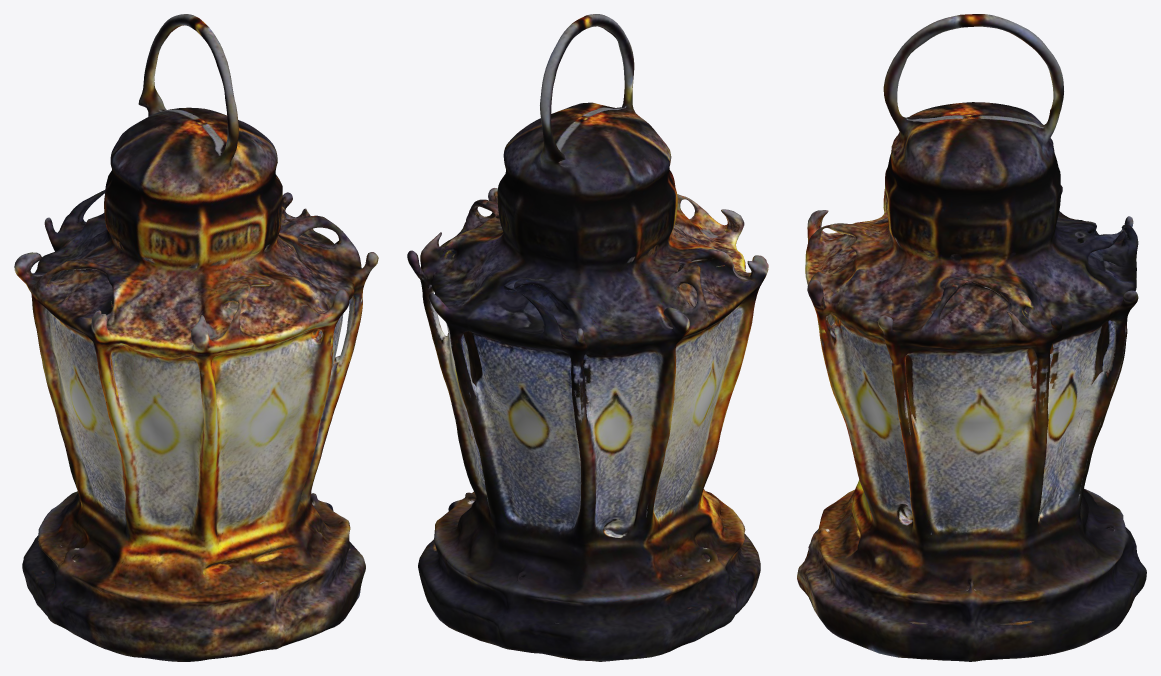
Rendered from 6af3f9a8-917c-4f39-87c8-5c8eab4eb48e.glb.
The picture shows the model from 3 angles, left to right: view 1: azimuth 30°, elevation 25°; view 2: azimuth 150°, elevation 25°; view 3: azimuth 270°, elevation 25°; orthographic projection. The views are drawn at different scales.
Parts seen in each view (by area): view 1: mesh; view 2: mesh; view 3: mesh.
Part boxes in pixels (x1,y1,x2,y2): mesh: (14,14,378,661); mesh: (407,14,768,661); mesh: (797,14,1146,661).
Bounding box in the file's own units: 0.5409 × 0.9984 × 0.5411.
Materials: 1 (1 with a texture image).
